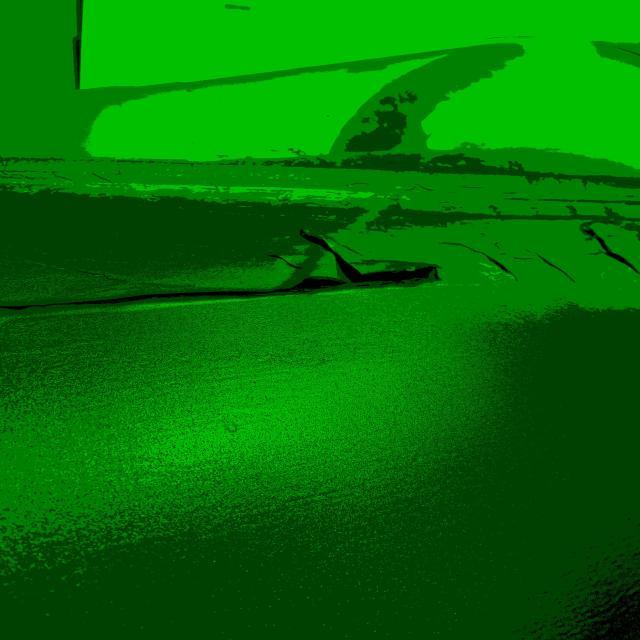crack: (448, 235, 575, 287), (75, 266, 130, 288), (262, 254, 303, 274)
